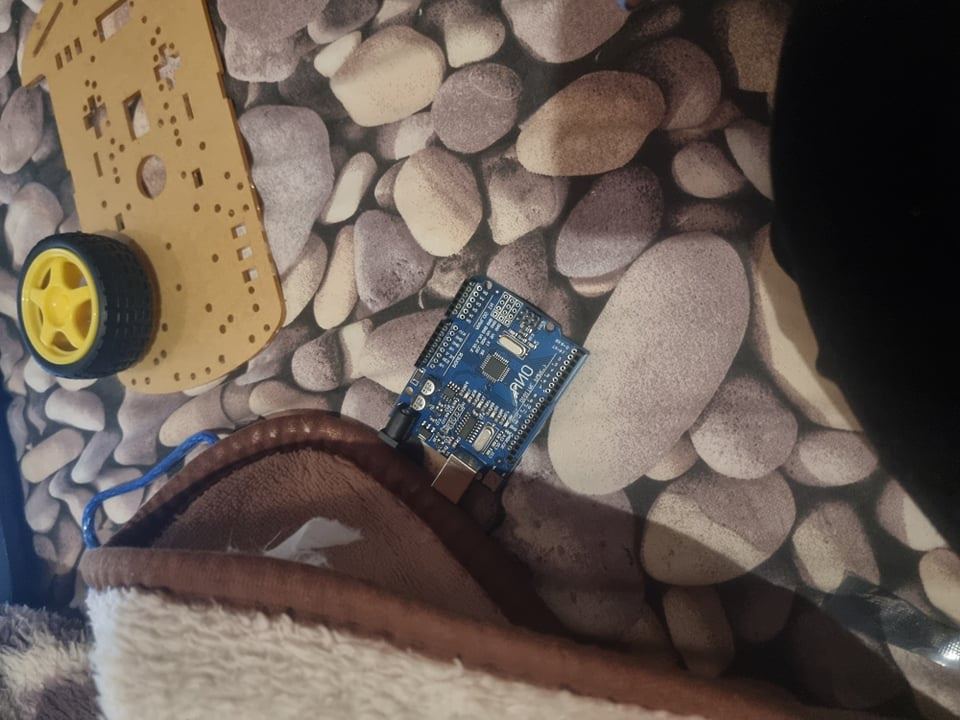UNO R3: (376, 277, 593, 503)
